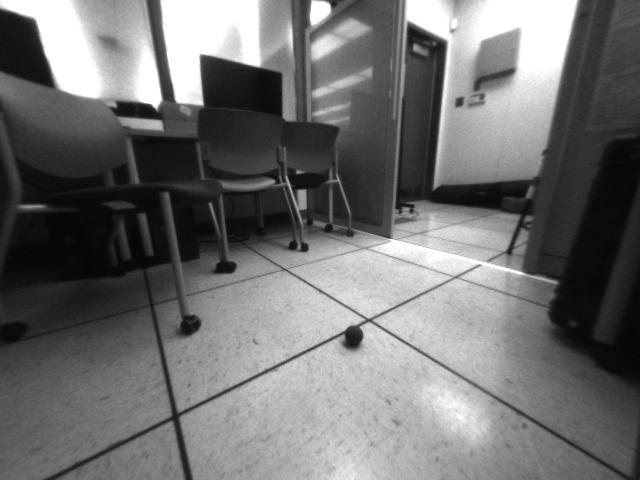dogtoy: (338, 319, 368, 354)
